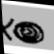not correct: (1, 16, 45, 46)
